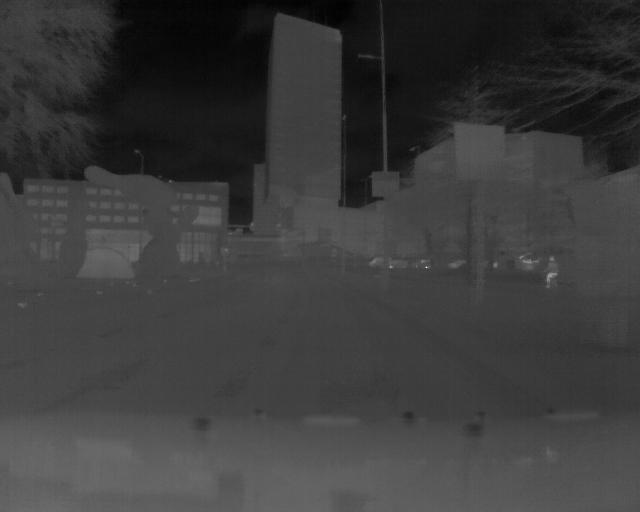person: (541, 254, 562, 289)
